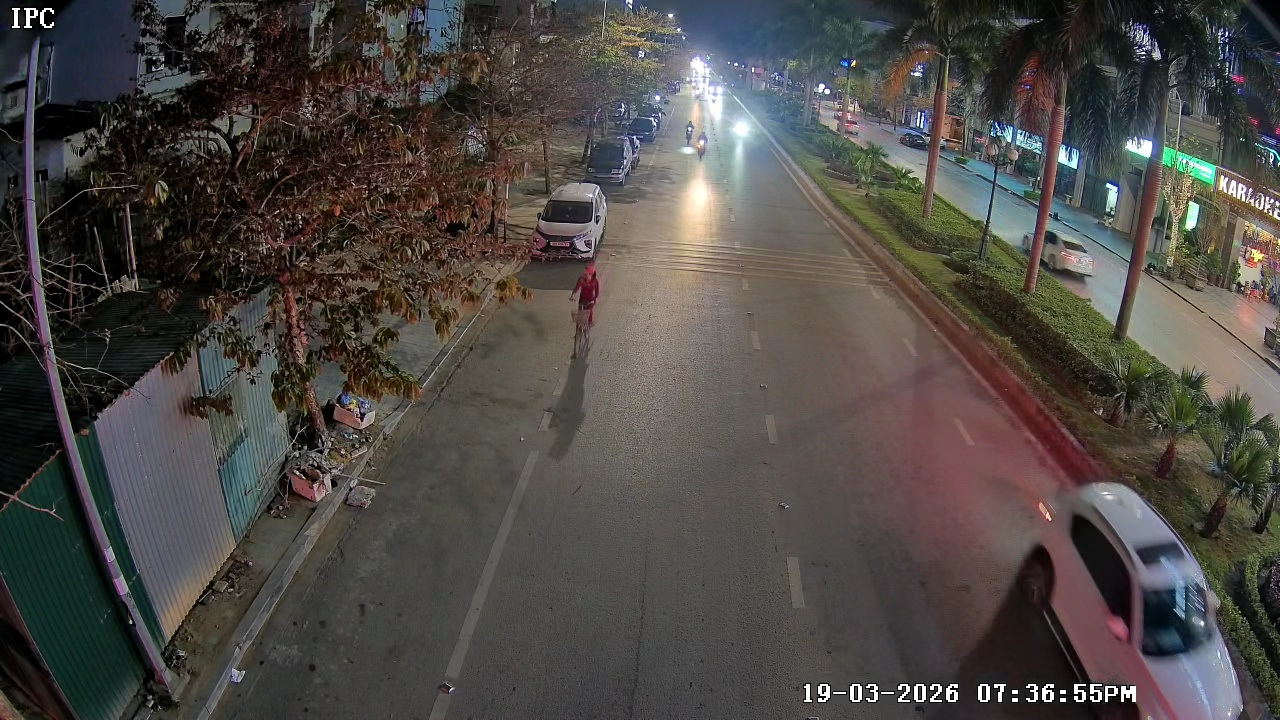bike: (564, 262, 608, 360)
car: (991, 465, 1259, 719), (532, 181, 610, 264), (584, 132, 641, 188)
motorbike: (695, 126, 710, 163), (683, 118, 695, 146)
